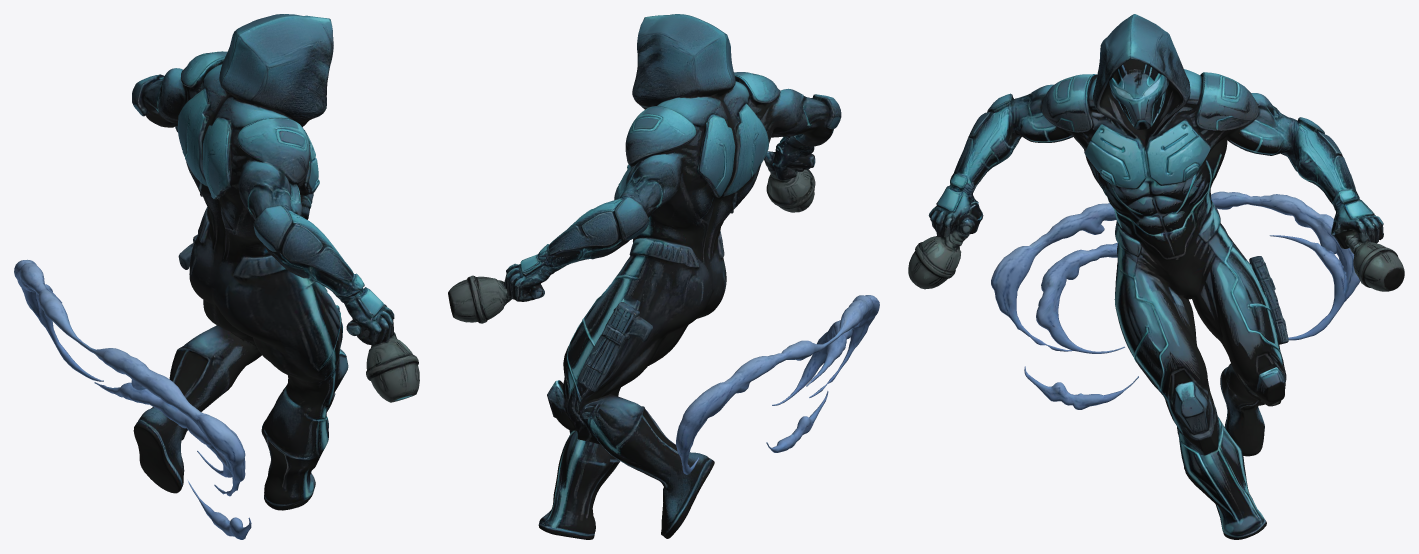
The model's file is techrunner.glb.
3 views of the same model, side by side, from view 1: azimuth 30°, elevation 25°; view 2: azimuth 150°, elevation 25°; view 3: azimuth 270°, elevation 25° (orthographic). The views are drawn at different scales.
Parts seen in each view (by area): view 1: tripo_node_4e86b6f9-0230-40aa-be0e-fdcf809e6b08; view 2: tripo_node_4e86b6f9-0230-40aa-be0e-fdcf809e6b08; view 3: tripo_node_4e86b6f9-0230-40aa-be0e-fdcf809e6b08.
Boxes of the visible parts, x1,y1,x2,y2 form: tripo_node_4e86b6f9-0230-40aa-be0e-fdcf809e6b08: (14,14,419,539); tripo_node_4e86b6f9-0230-40aa-be0e-fdcf809e6b08: (448,14,879,539); tripo_node_4e86b6f9-0230-40aa-be0e-fdcf809e6b08: (908,14,1404,539).
Bounding box in the file's own units: 0.586 × 1 × 0.9349.
Materials: 1 (1 with a texture image).
